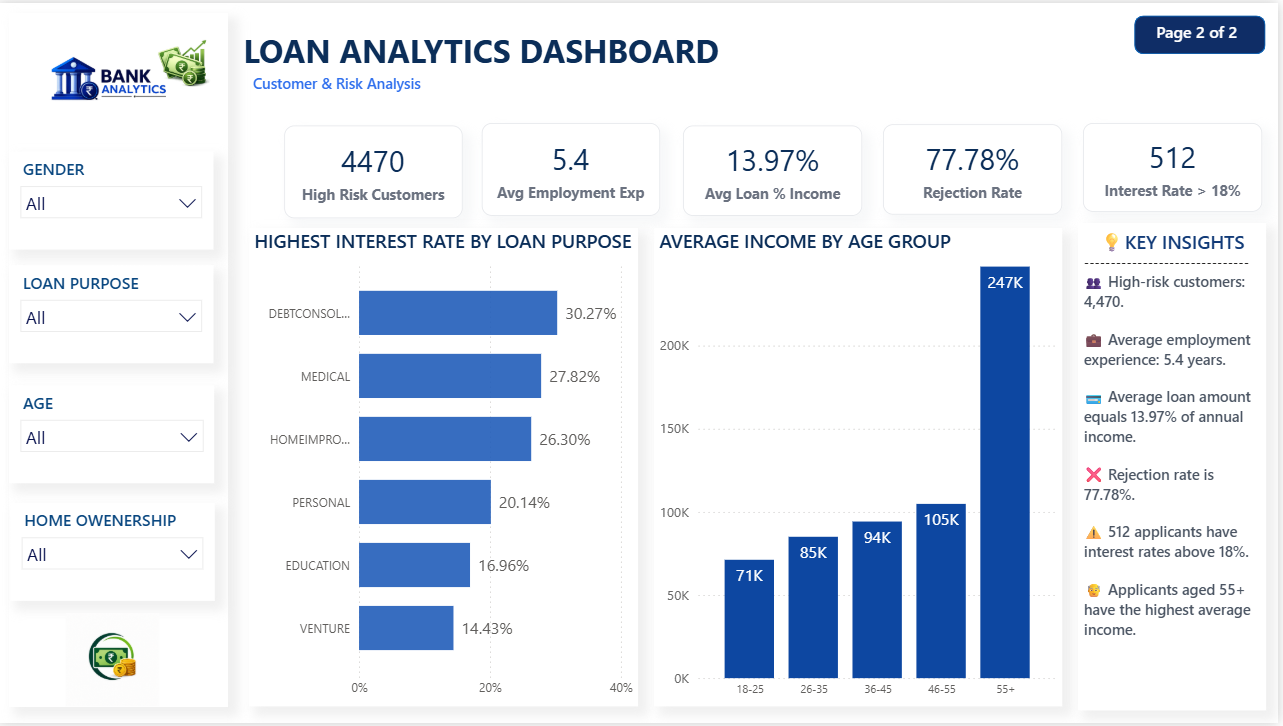

Layout of this report page (visuals, bound fields, positions):
{"tool":"powerbi","page":{"name":"Duplicate of Page 1","canvas":[1280,720],"ordinal":1},"visuals":[{"type":"textbox","box":[215.6,20.8,536.4,55.8],"z":0},{"type":"textbox","box":[249.7,65.1,299.2,31.4],"z":1000},{"type":"card","fields":{"Values":["loan_data (1).High Interest Loans"]},"box":[1084.8,120,179.4,89.1],"z":2000},{"type":"card","title":"Total Applicants","fields":{"Values":["loan_data (1).Rejection Rate"]},"box":[884.4,121.2,179.4,90.3],"z":3000},{"type":"card","title":"Total Applicants","fields":{"Values":["loan_data (1).Avg Employment Experience"]},"box":[483.7,120,178.1,92.8],"z":4000},{"type":"card","title":"Total Applicants","fields":{"Values":["loan_data (1).High Risk Customers"]},"box":[285.7,122.5,178.1,92.8],"z":5000},{"type":"card","title":"Total Applicants","fields":{"Values":["loan_data (1).Avg Loan % Income"]},"box":[685.3,122.5,179.4,90.3],"z":6000},{"type":"shape","box":[11.7,10.4,219.5,693.5],"z":7000},{"type":"slicer","fields":{"Values":["loan_data (1).person_gender"]},"box":[11.2,148.8,203.8,97.5],"z":8000},{"type":"slicer","fields":{"Values":["loan_data (1).Loan Purpose Display"]},"box":[11.2,262.5,203.8,97.5],"z":9000},{"type":"slicer","fields":{"Values":["loan_data (1).person_age"]},"box":[11.2,382.5,205,97.5],"z":10000},{"type":"slicer","fields":{"Values":["loan_data (1).person_home_ownership"]},"box":[12.5,500,203.8,97.5],"z":11000},{"type":"image","box":[0,0,239,161],"z":12000},{"type":"clusteredBarChart","title":"HIGHEST INTEREST RATE BY LOAN PURPOSE","fields":{"Category":["loan_data (1).loan_intent"],"Y":["loan_data (1).Approval Ratee"]},"box":[250.7,225.1,388.8,478.3],"z":13000},{"type":"clusteredColumnChart","title":"AVERAGE INCOME BY AGE GROUP","fields":{"Category":["loan_data (1).Age Group"],"Y":["loan_data (1).Average Income"]},"box":[656.1,225.1,408,478.3],"z":14000},{"type":"textbox","box":[1079.5,220,188,487.3],"z":15000},{"type":"image","box":[41.2,610,146.2,93.8],"z":16000},{"type":"shape","title":"Page 2 of 2","box":[1136.2,12.5,131.2,38.8],"z":17000},{"type":"textbox","box":[1148.8,12.5,131.2,48.8],"z":18000}]}

Visuals, with their boxes in screenshot pixels (x1, y1, x2, y2), scaled from the page's 1280x720 canvas onto the 1283x726 screenshot:
textbox: 216:21:754:77
textbox: 250:66:550:97
card - loan_data (1).High Interest Loans: 1087:121:1267:211
"Total Applicants" card: 886:122:1066:213
"Total Applicants" card: 485:121:663:215
"Total Applicants" card: 286:124:465:217
"Total Applicants" card: 687:124:867:215
shape: 12:10:232:710
slicer - loan_data (1).person_gender: 11:150:216:248
slicer - loan_data (1).Loan Purpose Display: 11:265:216:363
slicer - loan_data (1).person_age: 11:386:217:484
slicer - loan_data (1).person_home_ownership: 13:504:217:602
image: 0:0:240:162
"HIGHEST INTEREST RATE BY LOAN PURPOSE" clusteredBarChart: 251:227:641:709
"AVERAGE INCOME BY AGE GROUP" clusteredColumnChart: 658:227:1067:709
textbox: 1082:222:1270:713
image: 41:615:188:710
"Page 2 of 2" shape: 1139:13:1270:52
textbox: 1151:13:1282:62
